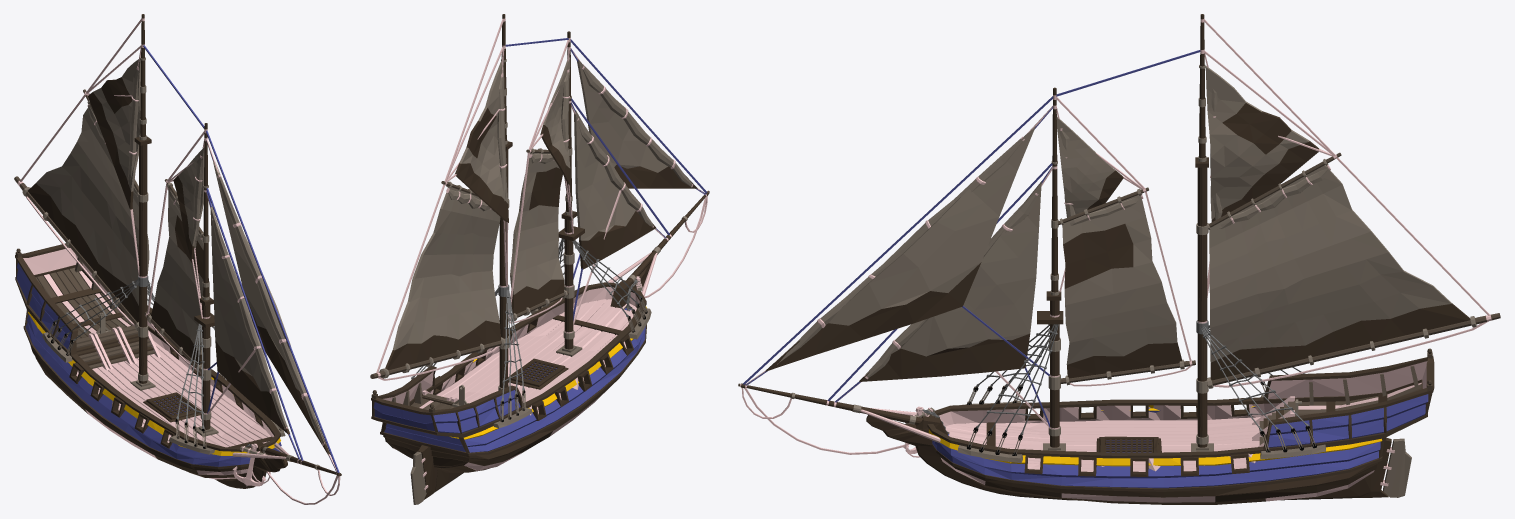
Rendered from SM_Veh_Veh_Boat_Large_01_Hull_Pirate.glb.
The picture shows the model from 3 angles, left to right: view 1: azimuth 30°, elevation 25°; view 2: azimuth 150°, elevation 25°; view 3: azimuth 270°, elevation 25°; orthographic projection. The views are drawn at different scales.
Parts seen in each view (by area): view 1: SM_Veh_Veh_Boat_Large_01_Hull_Pirate_00, SM_Veh_Veh_Boat_Large_01_Hull_Pirate_02, SM_Veh_Veh_Boat_Large_01_Hull_Pirate_06, SM_Veh_Veh_Boat_Large_01_Hull_Pirate_04, SM_Veh_Veh_Boat_Large_01_Hull_Pirate_01, SM_Veh_Veh_Boat_Large_01_Hull_Pirate_07, SM_Veh_Veh_Boat_Large_01_Hull_Pirate_03, SM_Veh_Veh_Boat_Large_01_Hull_Pirate_05, SM_Veh_Veh_Boat_Large_01_Hull_Pirate_08, SM_Veh_Veh_Boat_Large_01_Hull_Pirate_09; view 2: SM_Veh_Veh_Boat_Large_01_Hull_Pirate_00, SM_Veh_Veh_Boat_Large_01_Hull_Pirate_02, SM_Veh_Veh_Boat_Large_01_Hull_Pirate_06, SM_Veh_Veh_Boat_Large_01_Hull_Pirate_04, SM_Veh_Veh_Boat_Large_01_Hull_Pirate_01, SM_Veh_Veh_Boat_Large_01_Hull_Pirate_03, SM_Veh_Veh_Boat_Large_01_Hull_Pirate_07, SM_Veh_Veh_Boat_Large_01_Hull_Pirate_08, SM_Veh_Veh_Boat_Large_01_Hull_Pirate_05, SM_Veh_Veh_Boat_Large_01_Hull_Pirate_09; view 3: SM_Veh_Veh_Boat_Large_01_Hull_Pirate_00, SM_Veh_Veh_Boat_Large_01_Hull_Pirate_02, SM_Veh_Veh_Boat_Large_01_Hull_Pirate_06, SM_Veh_Veh_Boat_Large_01_Hull_Pirate_04, SM_Veh_Veh_Boat_Large_01_Hull_Pirate_01, SM_Veh_Veh_Boat_Large_01_Hull_Pirate_03, SM_Veh_Veh_Boat_Large_01_Hull_Pirate_07, SM_Veh_Veh_Boat_Large_01_Hull_Pirate_05, SM_Veh_Veh_Boat_Large_01_Hull_Pirate_08, SM_Veh_Veh_Boat_Large_01_Hull_Pirate_09.
Boxes of the visible parts, box(x1,y1,x2,y2) form: SM_Veh_Veh_Boat_Large_01_Hull_Pirate_00: box(15, 243, 341, 504); SM_Veh_Veh_Boat_Large_01_Hull_Pirate_02: box(28, 58, 149, 322); SM_Veh_Veh_Boat_Large_01_Hull_Pirate_06: box(210, 161, 330, 455); SM_Veh_Veh_Boat_Large_01_Hull_Pirate_04: box(151, 147, 209, 364); SM_Veh_Veh_Boat_Large_01_Hull_Pirate_01: box(14, 14, 151, 383); SM_Veh_Veh_Boat_Large_01_Hull_Pirate_07: box(206, 139, 337, 472); SM_Veh_Veh_Boat_Large_01_Hull_Pirate_03: box(144, 123, 214, 429); SM_Veh_Veh_Boat_Large_01_Hull_Pirate_05: box(143, 45, 339, 472); SM_Veh_Veh_Boat_Large_01_Hull_Pirate_08: box(87, 46, 141, 263); SM_Veh_Veh_Boat_Large_01_Hull_Pirate_09: box(167, 139, 204, 318); SM_Veh_Veh_Boat_Large_01_Hull_Pirate_00: box(371, 190, 709, 504); SM_Veh_Veh_Boat_Large_01_Hull_Pirate_02: box(385, 61, 508, 370); SM_Veh_Veh_Boat_Large_01_Hull_Pirate_06: box(574, 59, 697, 269); SM_Veh_Veh_Boat_Large_01_Hull_Pirate_04: box(510, 57, 570, 313); SM_Veh_Veh_Boat_Large_01_Hull_Pirate_01: box(370, 14, 512, 390); SM_Veh_Veh_Boat_Large_01_Hull_Pirate_03: box(508, 31, 584, 349); SM_Veh_Veh_Boat_Large_01_Hull_Pirate_07: box(571, 48, 703, 325); SM_Veh_Veh_Boat_Large_01_Hull_Pirate_08: box(446, 47, 507, 286); SM_Veh_Veh_Boat_Large_01_Hull_Pirate_05: box(505, 38, 707, 320); SM_Veh_Veh_Boat_Large_01_Hull_Pirate_09: box(529, 48, 571, 228); SM_Veh_Veh_Boat_Large_01_Hull_Pirate_00: box(738, 324, 1434, 504); SM_Veh_Veh_Boat_Large_01_Hull_Pirate_02: box(1205, 66, 1470, 380); SM_Veh_Veh_Boat_Large_01_Hull_Pirate_06: box(765, 126, 1041, 381); SM_Veh_Veh_Boat_Large_01_Hull_Pirate_04: box(1056, 117, 1181, 378); SM_Veh_Veh_Boat_Large_01_Hull_Pirate_01: box(1195, 14, 1500, 447); SM_Veh_Veh_Boat_Large_01_Hull_Pirate_03: box(1037, 87, 1195, 447); SM_Veh_Veh_Boat_Large_01_Hull_Pirate_07: box(745, 106, 1052, 427); SM_Veh_Veh_Boat_Large_01_Hull_Pirate_05: box(743, 50, 1200, 427); SM_Veh_Veh_Boat_Large_01_Hull_Pirate_08: box(1204, 53, 1333, 297); SM_Veh_Veh_Boat_Large_01_Hull_Pirate_09: box(1056, 107, 1143, 292).
Size of the model in its own units: 7.46 by 25.42 by 36.19.
Materials: 1 (1 with a texture image).
